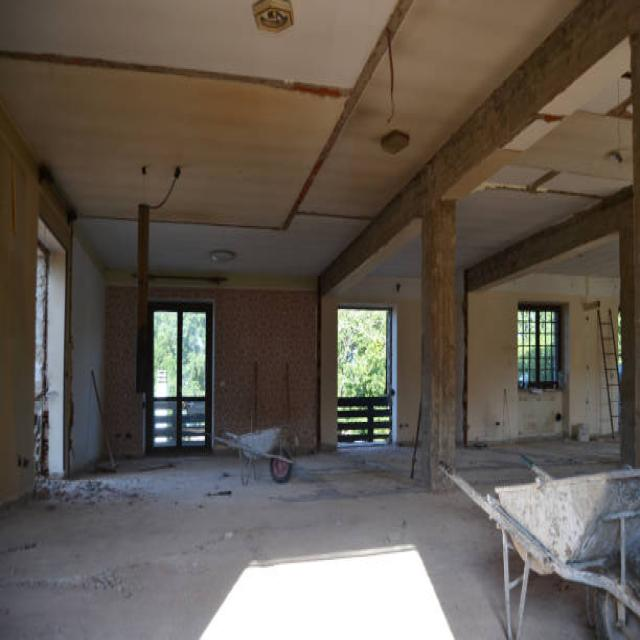floor: (0, 401, 508, 640), (457, 432, 621, 496)
wall: (320, 0, 640, 493), (464, 187, 634, 469), (0, 105, 73, 515), (148, 285, 321, 455), (457, 273, 570, 445), (336, 275, 421, 446), (70, 235, 106, 475), (569, 277, 621, 438), (101, 286, 147, 457), (434, 199, 457, 493), (320, 297, 337, 451), (605, 355, 617, 369), (603, 340, 615, 353), (607, 371, 618, 385), (609, 386, 620, 400), (601, 325, 612, 338), (610, 402, 620, 416), (612, 418, 620, 432)
